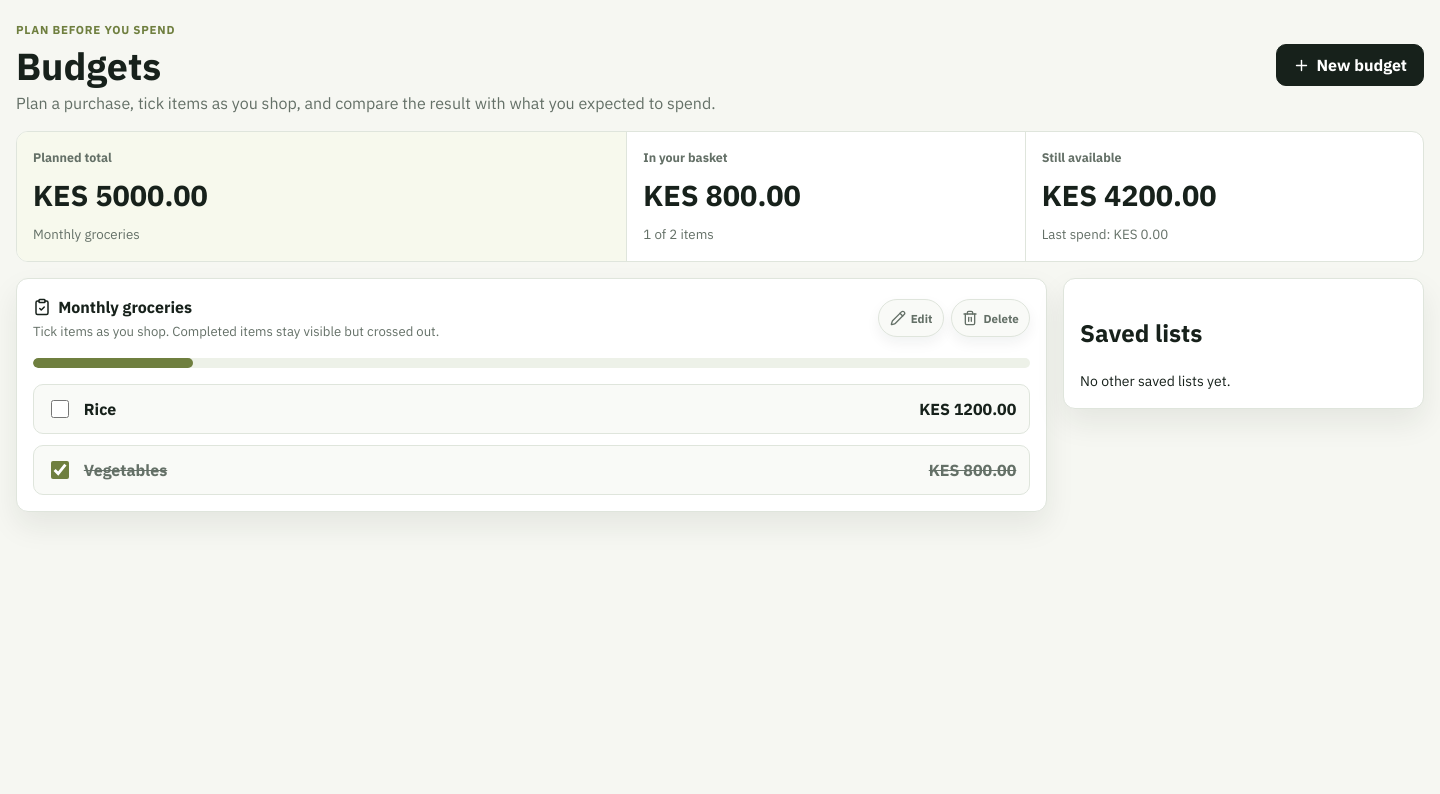
Test case: Budgets › opens a populated edit form and shows the remaining draft allocation
Click the button with aria-label "Edit Monthly groceries" at (911,318), box [878,299,944,337]
(page scrolled)
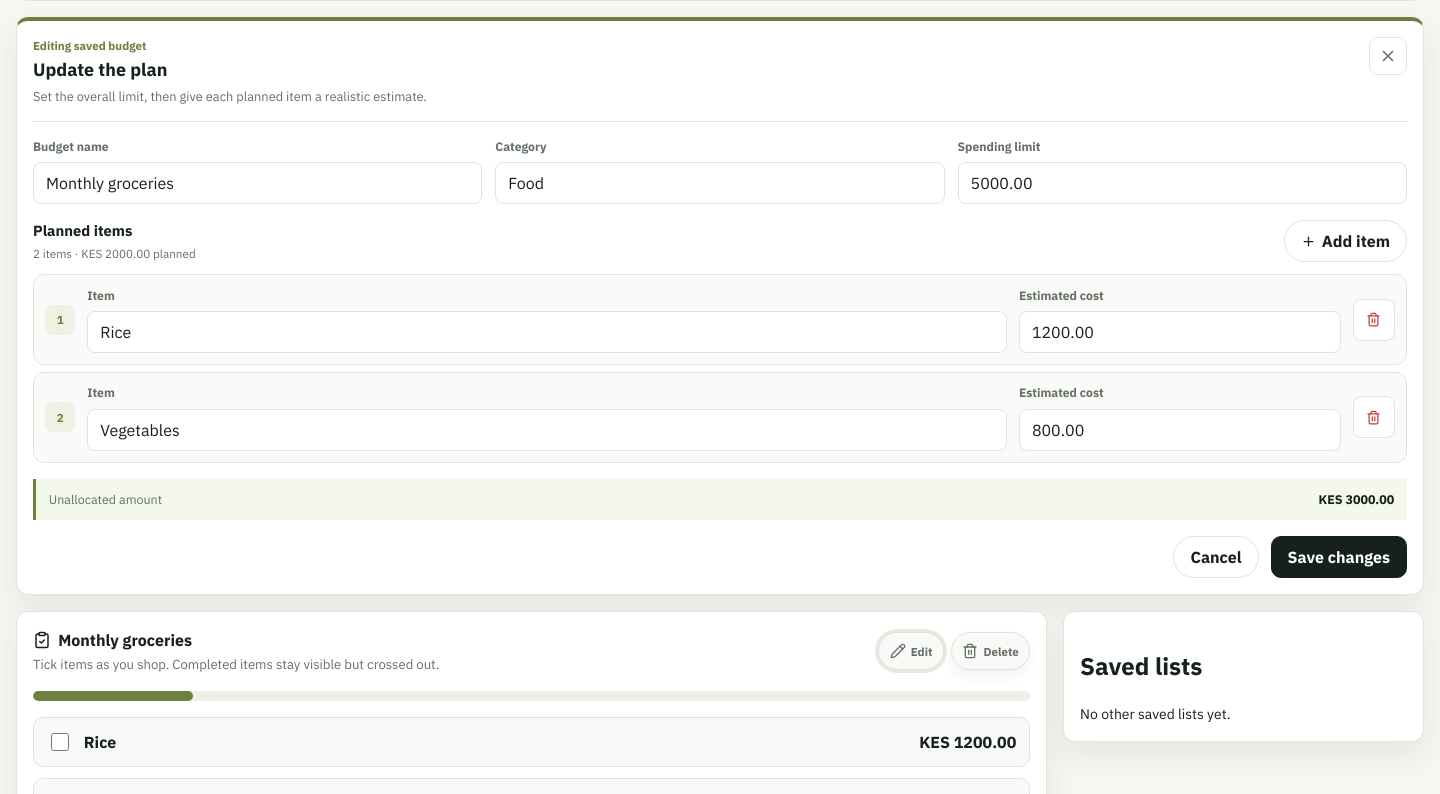
Expected: the form named "Edit budget" is shown
Expected: the heading "Update the plan" is shown, [33,58,167,81]
Expected: the field showing "Monthly groceries" is shown, [33,162,482,204]
